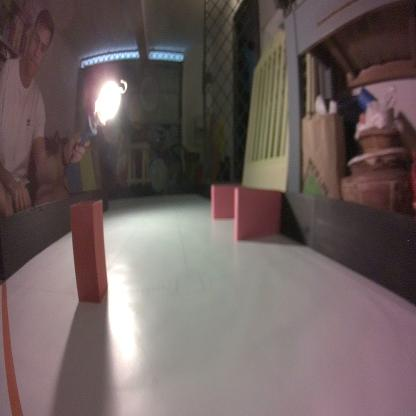magenta: (232, 184, 281, 243), (211, 182, 246, 222)
red: (69, 196, 110, 308)
